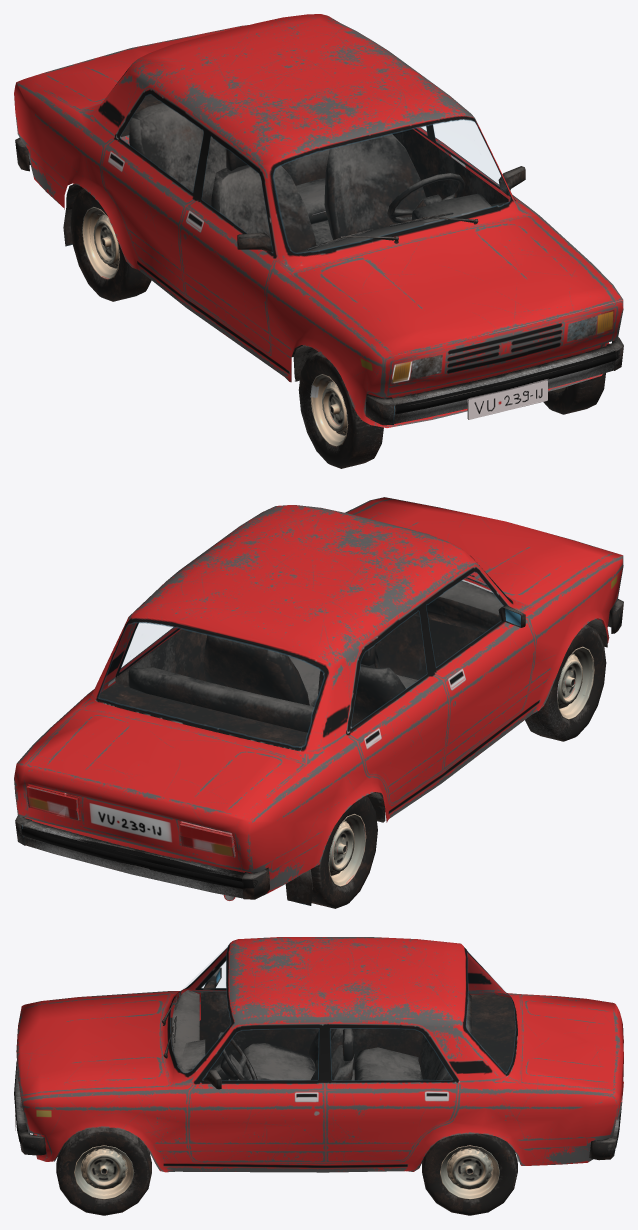
File: lada-riva.glb
3 renders of one model, top to bottom at view 1: azimuth 30°, elevation 25°; view 2: azimuth 150°, elevation 25°; view 3: azimuth 270°, elevation 25°, orthographic. The views are drawn at different scales.
Visible parts, largest first — view 1: lada_riva_sasija_lp, lada_riva_body_lp; view 2: lada_riva_sasija_lp, lada_riva_body_lp; view 3: lada_riva_sasija_lp, lada_riva_body_lp.
Boxes of the visible parts, <box> form: lada_riva_sasija_lp: <box>14,14,623,447</box>; lada_riva_body_lp: <box>15,94,623,468</box>; lada_riva_sasija_lp: <box>14,497,623,900</box>; lada_riva_body_lp: <box>15,575,623,908</box>; lada_riva_sasija_lp: <box>16,937,623,1199</box>; lada_riva_body_lp: <box>14,967,621,1215</box>.
Size of the model in its own units: 177 by 148 by 406.
2 materials, 2 textured.
